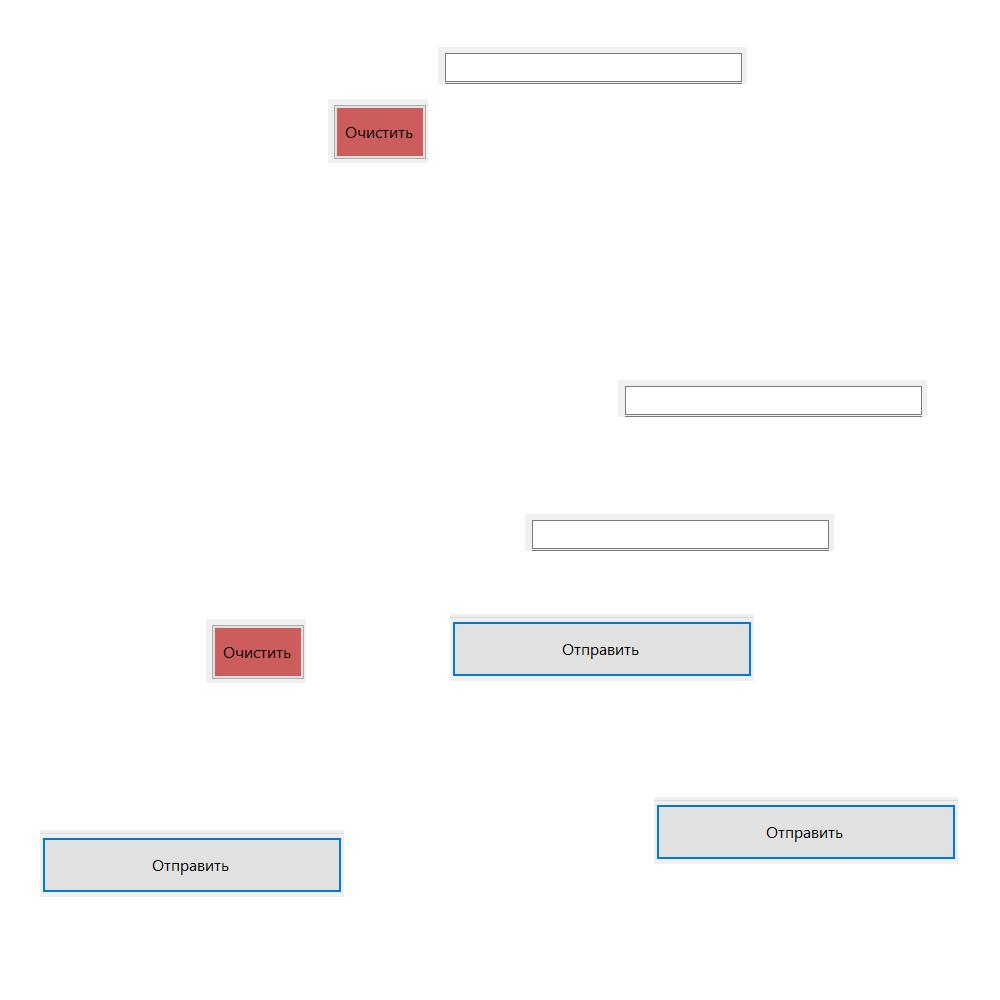Button: (40, 830, 344, 897), (450, 614, 754, 681), (654, 797, 958, 864), (206, 619, 306, 683), (328, 99, 428, 163)
EditText-: (438, 47, 747, 84), (618, 380, 927, 417), (525, 514, 834, 551)
